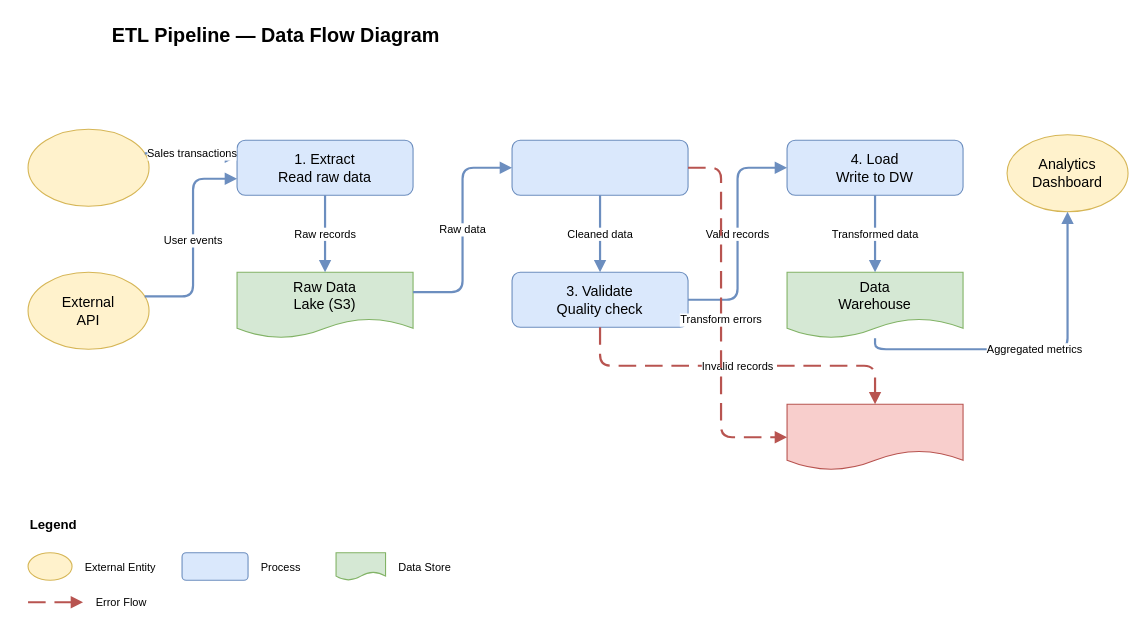
Image size: 1147x631. Some labels were removed from this diagram. The shapes that lost their labels are listed below. From the top down, each one's box as (x1, y1, x2, y2) in pixels, then its label:
(27, 128, 149, 206): Source Database
(511, 139, 688, 195): 2. Transform Clean & normalize
(786, 403, 963, 470): Error Log (DLQ)
